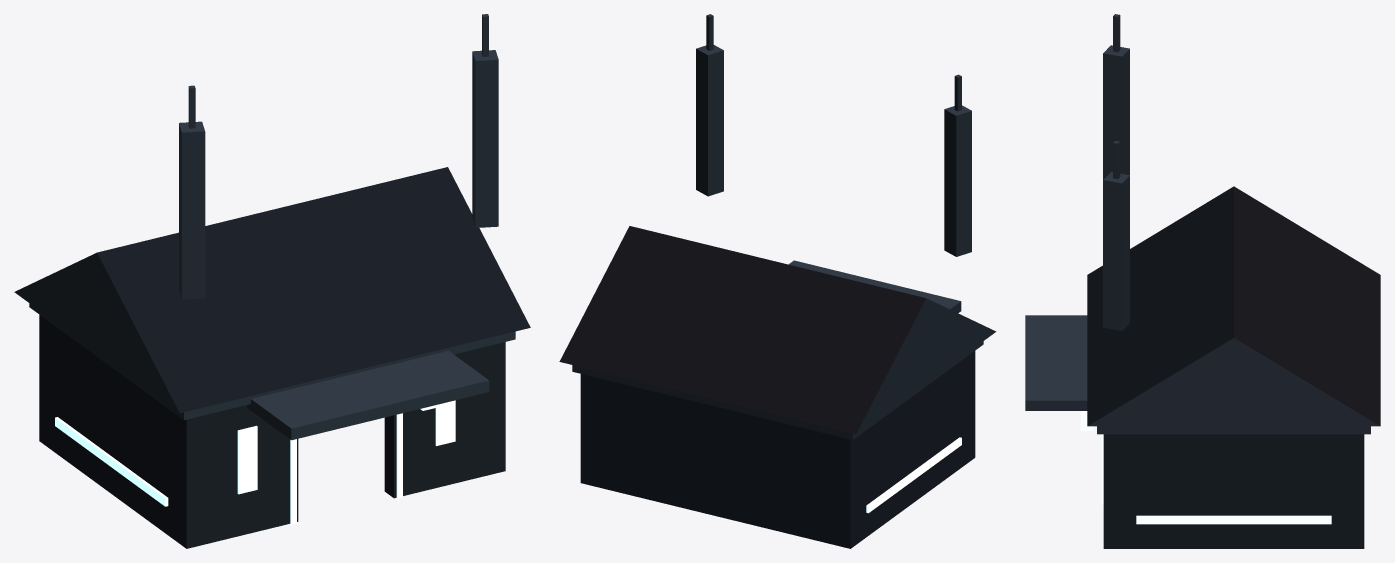
File: shaddai_dist_darkforest_b4_v01.glb
The picture shows the model from 3 angles, left to right: view 1: azimuth 30°, elevation 25°; view 2: azimuth 150°, elevation 25°; view 3: azimuth 270°, elevation 25°; orthographic projection. The views are drawn at different scales.
Parts seen in each view (by area): view 1: shaddai_dist_darkforest_b4; view 2: shaddai_dist_darkforest_b4; view 3: shaddai_dist_darkforest_b4.
Boxes of the visible parts, x1,y1,x2,y2 form: shaddai_dist_darkforest_b4: (14, 14, 530, 548); shaddai_dist_darkforest_b4: (559, 14, 996, 548); shaddai_dist_darkforest_b4: (1025, 14, 1380, 548).
Bounding box in the file's own units: 11 × 13.58 × 10.9.
